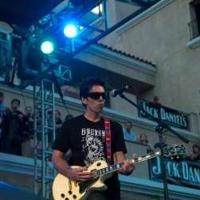person without safety: (51, 81, 137, 179)
